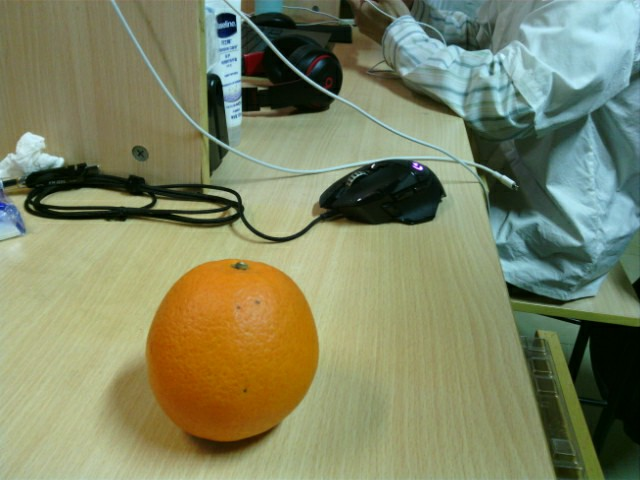normal_orange: (145, 261, 319, 440)
